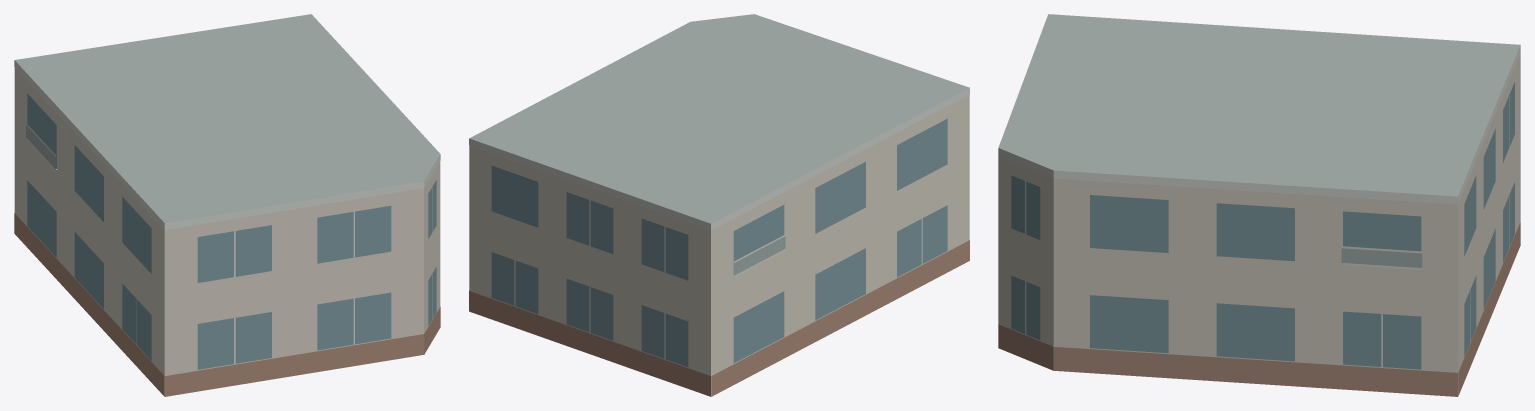
File: survey-upis-32675966.glb
3 renders of one model, left to right at view 1: azimuth 30°, elevation 25°; view 2: azimuth 150°, elevation 25°; view 3: azimuth 270°, elevation 25°, orthographic. The views are drawn at different scales.
Parts seen in each view (by area): view 1: survey-upis-32675966.tmp; view 2: survey-upis-32675966.tmp; view 3: survey-upis-32675966.tmp.
Part boxes in pixels (x1,y1,x2,y2): survey-upis-32675966.tmp: (14,14,440,396); survey-upis-32675966.tmp: (469,14,969,396); survey-upis-32675966.tmp: (998,14,1520,396).
Size of the model in its own units: 11.94 by 6.1 by 14.43.
